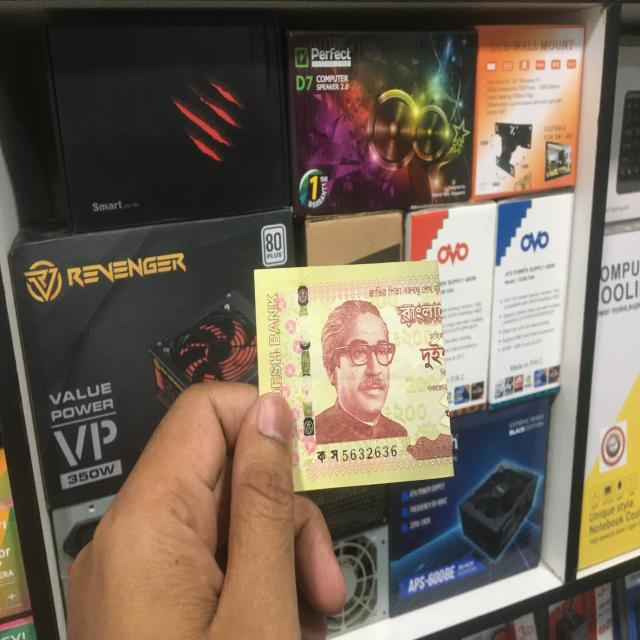Taka: (254, 266, 456, 480)
